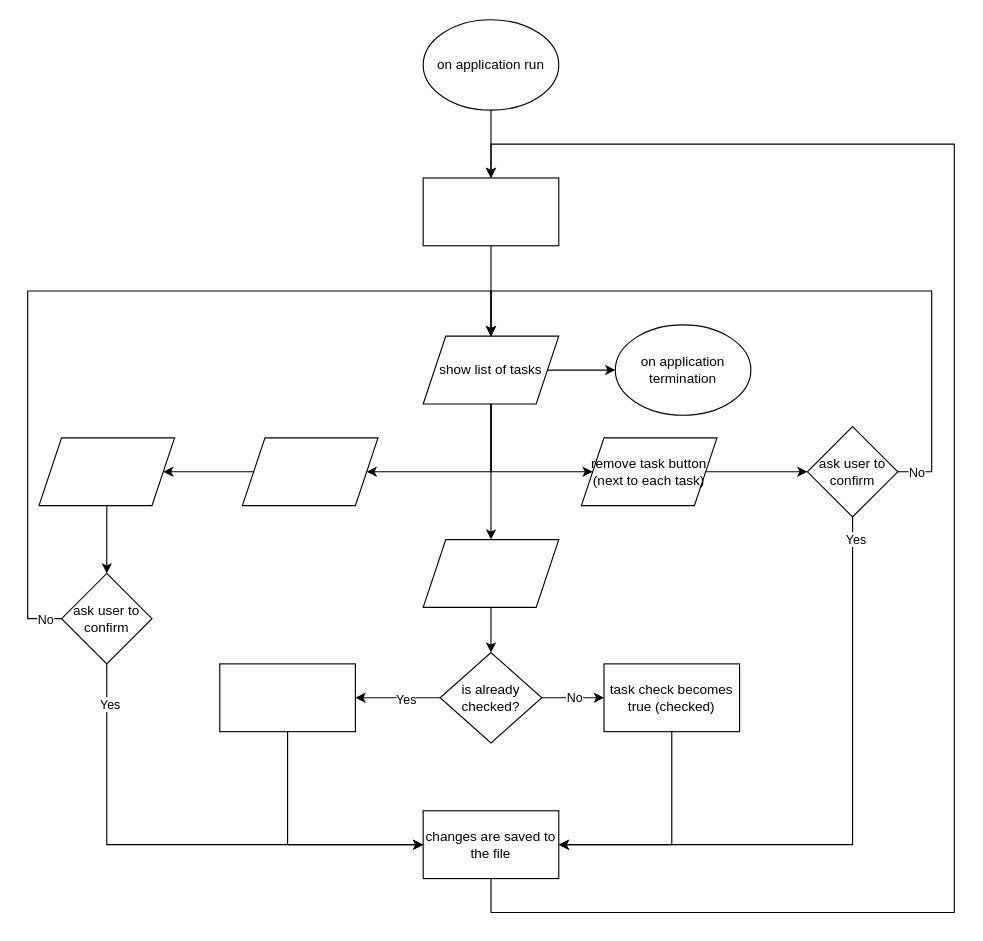
Some shapes in this 983 by 941 pixel diagram are drawn without their labels. Each missing label, with the box of its shape:
add task button is clicked: (241, 437, 378, 506)
ask user to type in new task: (38, 437, 175, 506)
check button clicked: (422, 538, 559, 607)
load and read file: (422, 177, 559, 246)
task check becomes false (unchecked): (219, 663, 355, 732)
